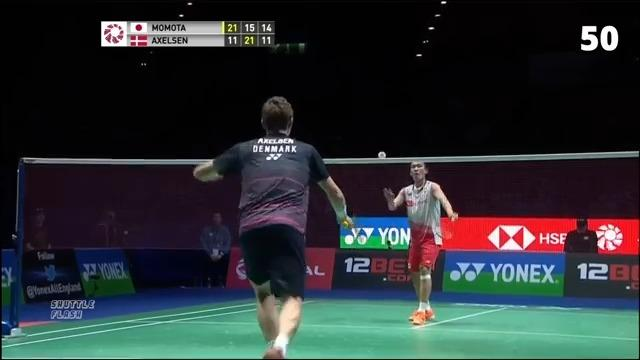Shuttlecock: (378, 151, 389, 163)
